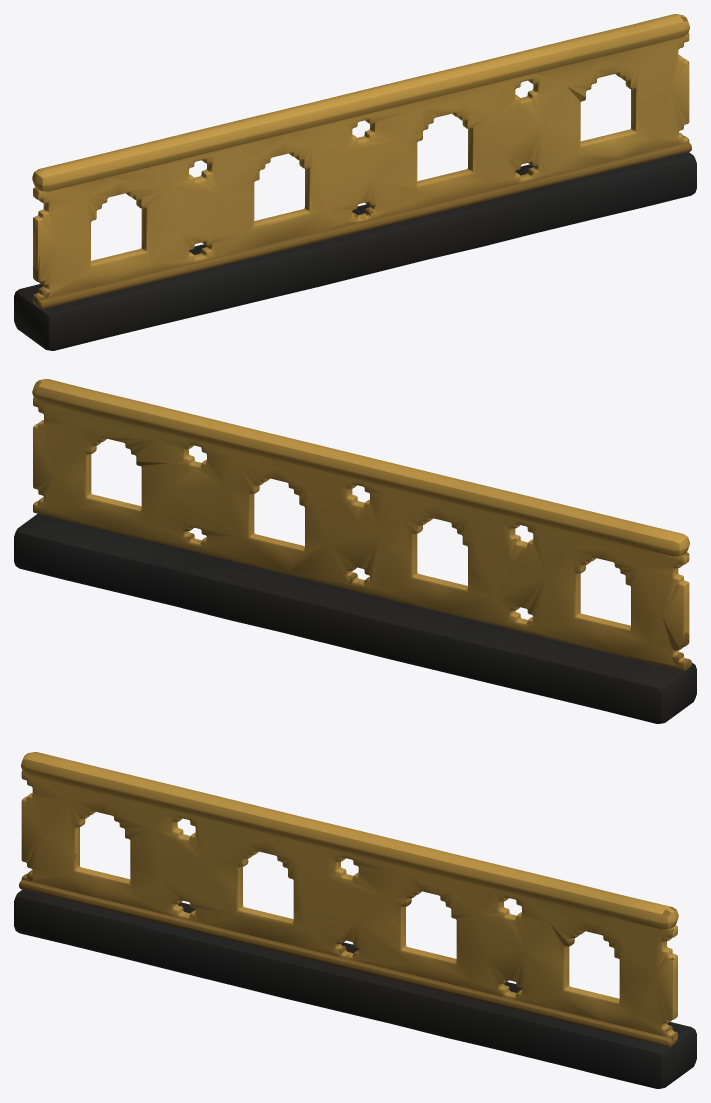
Rendered from ember_fender.glb.
3 views of the same model, one above another, from view 1: azimuth 30°, elevation 25°; view 2: azimuth 150°, elevation 25°; view 3: azimuth 330°, elevation 25° (orthographic).
Visible parts, largest first — view 1: ember_fender; view 2: ember_fender; view 3: ember_fender.
Boxes of the visible parts, box(x1,y1,x2,y2) form: ember_fender: box(14, 14, 696, 350); ember_fender: box(14, 379, 696, 723); ember_fender: box(14, 752, 696, 1088).
Size of the model in its own units: 40.01 by 10.23 by 4.01.
